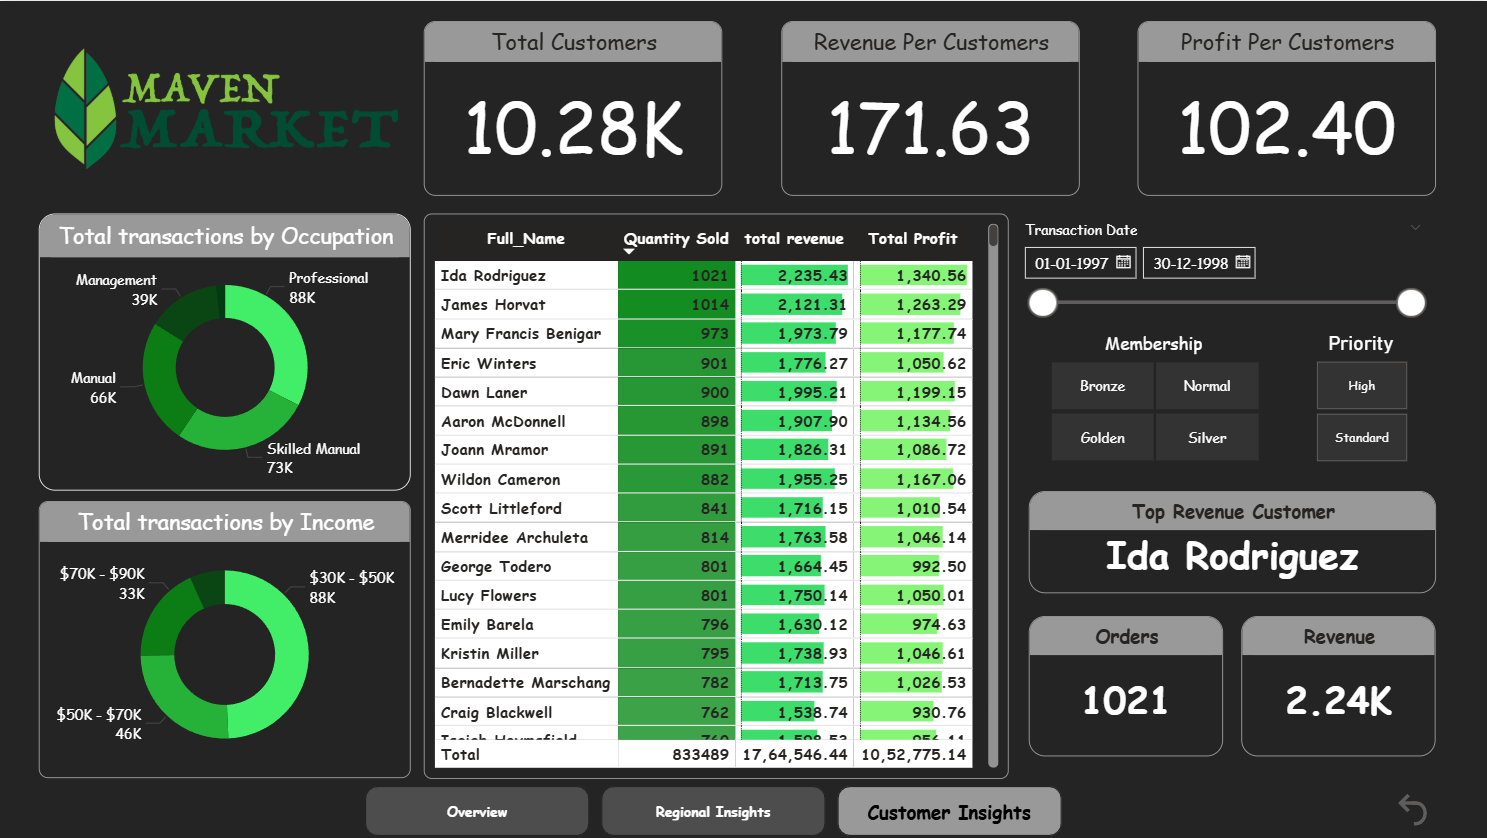

The dashboard page shown, as its layout file describes it:
{"tool":"powerbi","page":{"name":"Customer Insights","canvas":[1280,720],"ordinal":2},"visuals":[{"type":"image","box":[33.2,23.1,320.3,138.5],"z":0},{"type":"slicer","title":"Priority","fields":{"Values":["Customers.Priority"]},"box":[1106.2,284,128.2,118.7],"z":1000},{"type":"donutChart","title":"Total transactions by Occupation","fields":{"Y":["Measure.Total transactions"],"Category":["Customers.occupation"]},"box":[33.2,183.2,320.3,238.1],"z":2000},{"type":"slicer","title":"Membership","fields":{"Values":["Customers.member_card"]},"box":[878.6,284.2,228,118.3],"z":3000},{"type":"donutChart","title":"Total transactions by Income","fields":{"Y":["Measure.Total transactions"],"Category":["Customers.yearly_income"]},"box":[33.2,429.9,320.3,238.1],"z":4000},{"type":"tableEx","fields":{"Values":["Customers.Full_Name","Measure.Quantity Sold","Measure.total revenue","Measure.Total Profit"]},"box":[365,183.2,503.5,486.2],"z":5000},{"type":"slicer","fields":{"Values":["Transaction.transaction_date"]},"box":[868.5,183.2,366.5,93.8],"z":6000},{"type":"card","title":"Total Customers","fields":{"Values":["Customers.customer_acct_num"]},"box":[365,17.3,256.8,150],"z":7000},{"type":"card","title":"Revenue Per Customers","fields":{"Values":["Measure.Revenue Per Cusotmer"]},"box":[671.6,17.3,256.8,150],"z":8000},{"type":"card","title":"Profit Per Customers","fields":{"Values":["Measure.Profit Per Customer"]},"box":[978.2,17.3,256.8,150],"z":9000},{"type":"card","title":"Top Revenue Customer","fields":{"Values":["Measure.Full Name (first)"]},"box":[884.4,421.3,350.6,88],"z":10000},{"type":"card","title":"Orders","fields":{"Values":["Measure.Quantity Sold"]},"box":[884.4,529.5,167.4,121.2],"z":11000},{"type":"card","title":"Revenue","fields":{"Values":["Measure.total revenue"]},"box":[1067.6,529.5,167.4,121.2],"z":12000},{"type":"actionButton","box":[1197.3,674.8,37.2,40.7],"z":13000},{"type":"pageNavigator","box":[313.8,675,600,43.8],"z":14000}]}

Visuals, with their boxes in screenshot pixels (x1, y1, x2, y2), scaled from the page's 1280x720 canvas onto the 1487x838 screenshot:
image: [39, 27, 411, 188]
"Priority" slicer: [1285, 331, 1434, 469]
"Total transactions by Occupation" donutChart: [39, 213, 411, 490]
"Membership" slicer: [1021, 331, 1286, 468]
"Total transactions by Income" donutChart: [39, 500, 411, 777]
tableEx - Customers.Full_Name x Measure.Quantity Sold: [424, 213, 1009, 779]
slicer - Transaction.transaction_date: [1009, 213, 1435, 322]
"Total Customers" card: [424, 20, 722, 195]
"Revenue Per Customers" card: [780, 20, 1079, 195]
"Profit Per Customers" card: [1136, 20, 1435, 195]
"Top Revenue Customer" card: [1027, 490, 1435, 593]
"Orders" card: [1027, 616, 1222, 757]
"Revenue" card: [1240, 616, 1435, 757]
actionButton: [1391, 785, 1434, 833]
pageNavigator: [365, 786, 1062, 837]
